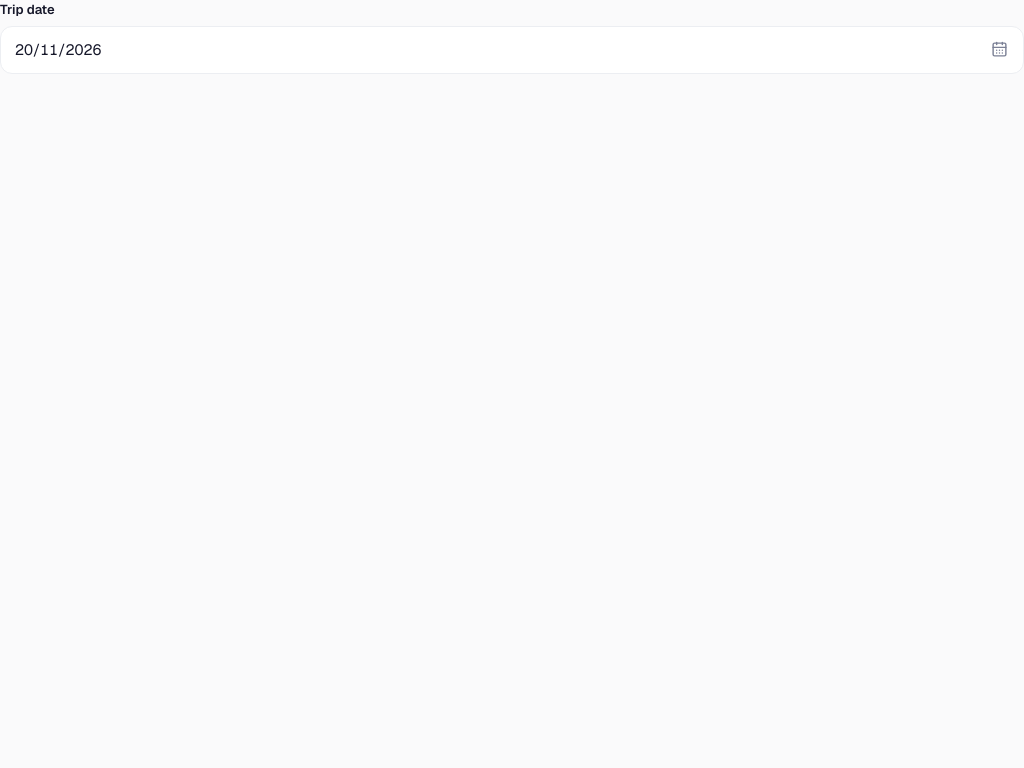
Test: DateField › habla inglés en el sitio y limpia la fecha
The width and height of the screenshot is (1024, 768).
Later steps or results of the test are not shown.
What coordinates should you click on to do the following:
click the button named "Open calendar"
I would click on:
 (999, 50)
Its box is x1=981 y1=32 x2=1017 y2=68.
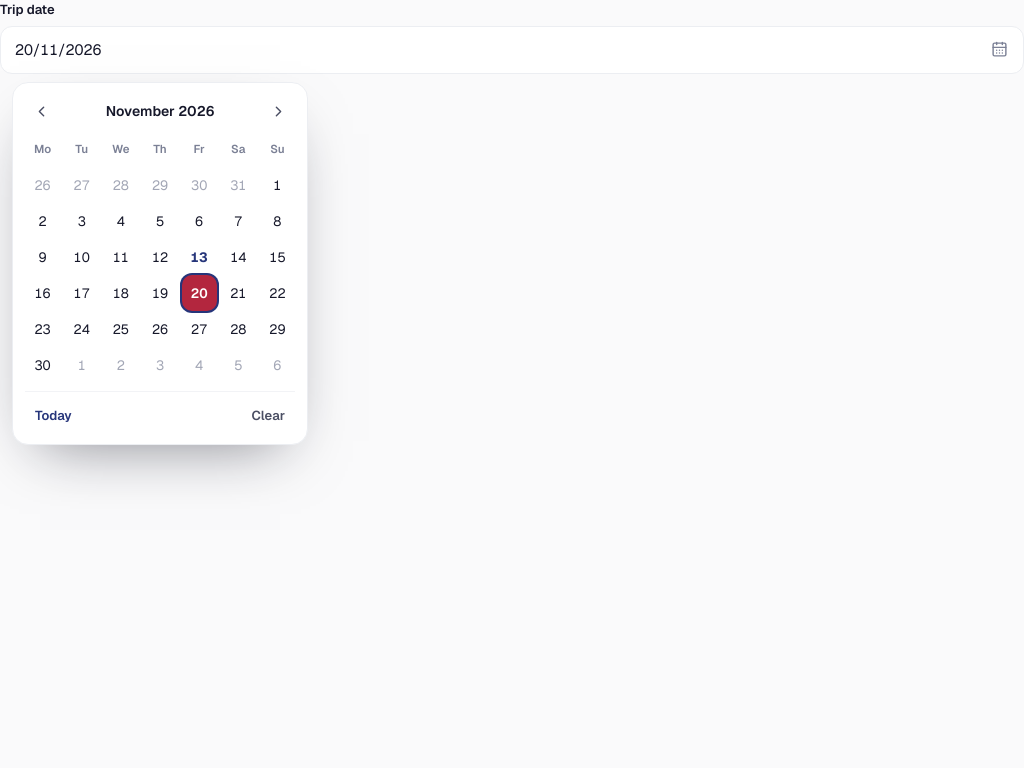
Now the column heading "Mo" is shown, box x1=34 y1=141 x2=51 y2=156
Now the text "November 2026" is shown, box x1=106 y1=100 x2=214 y2=122
